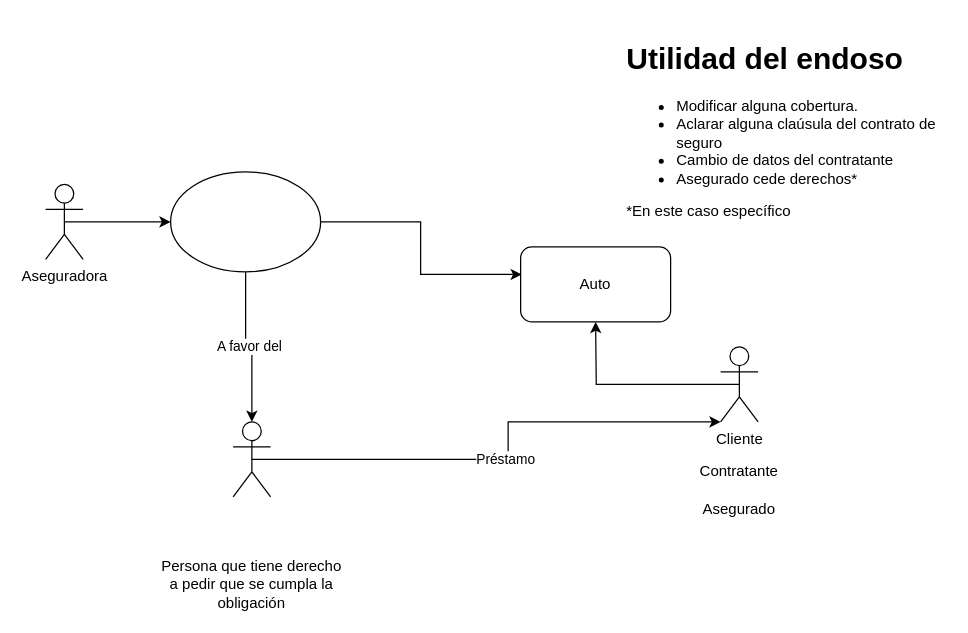
Some shapes in this 968 by 633 pixel diagram are drawn without their labels. Each missing label, with the box of its shape:
Acreedor: (232, 421, 271, 497)
Emite el endoso: (169, 171, 321, 272)
